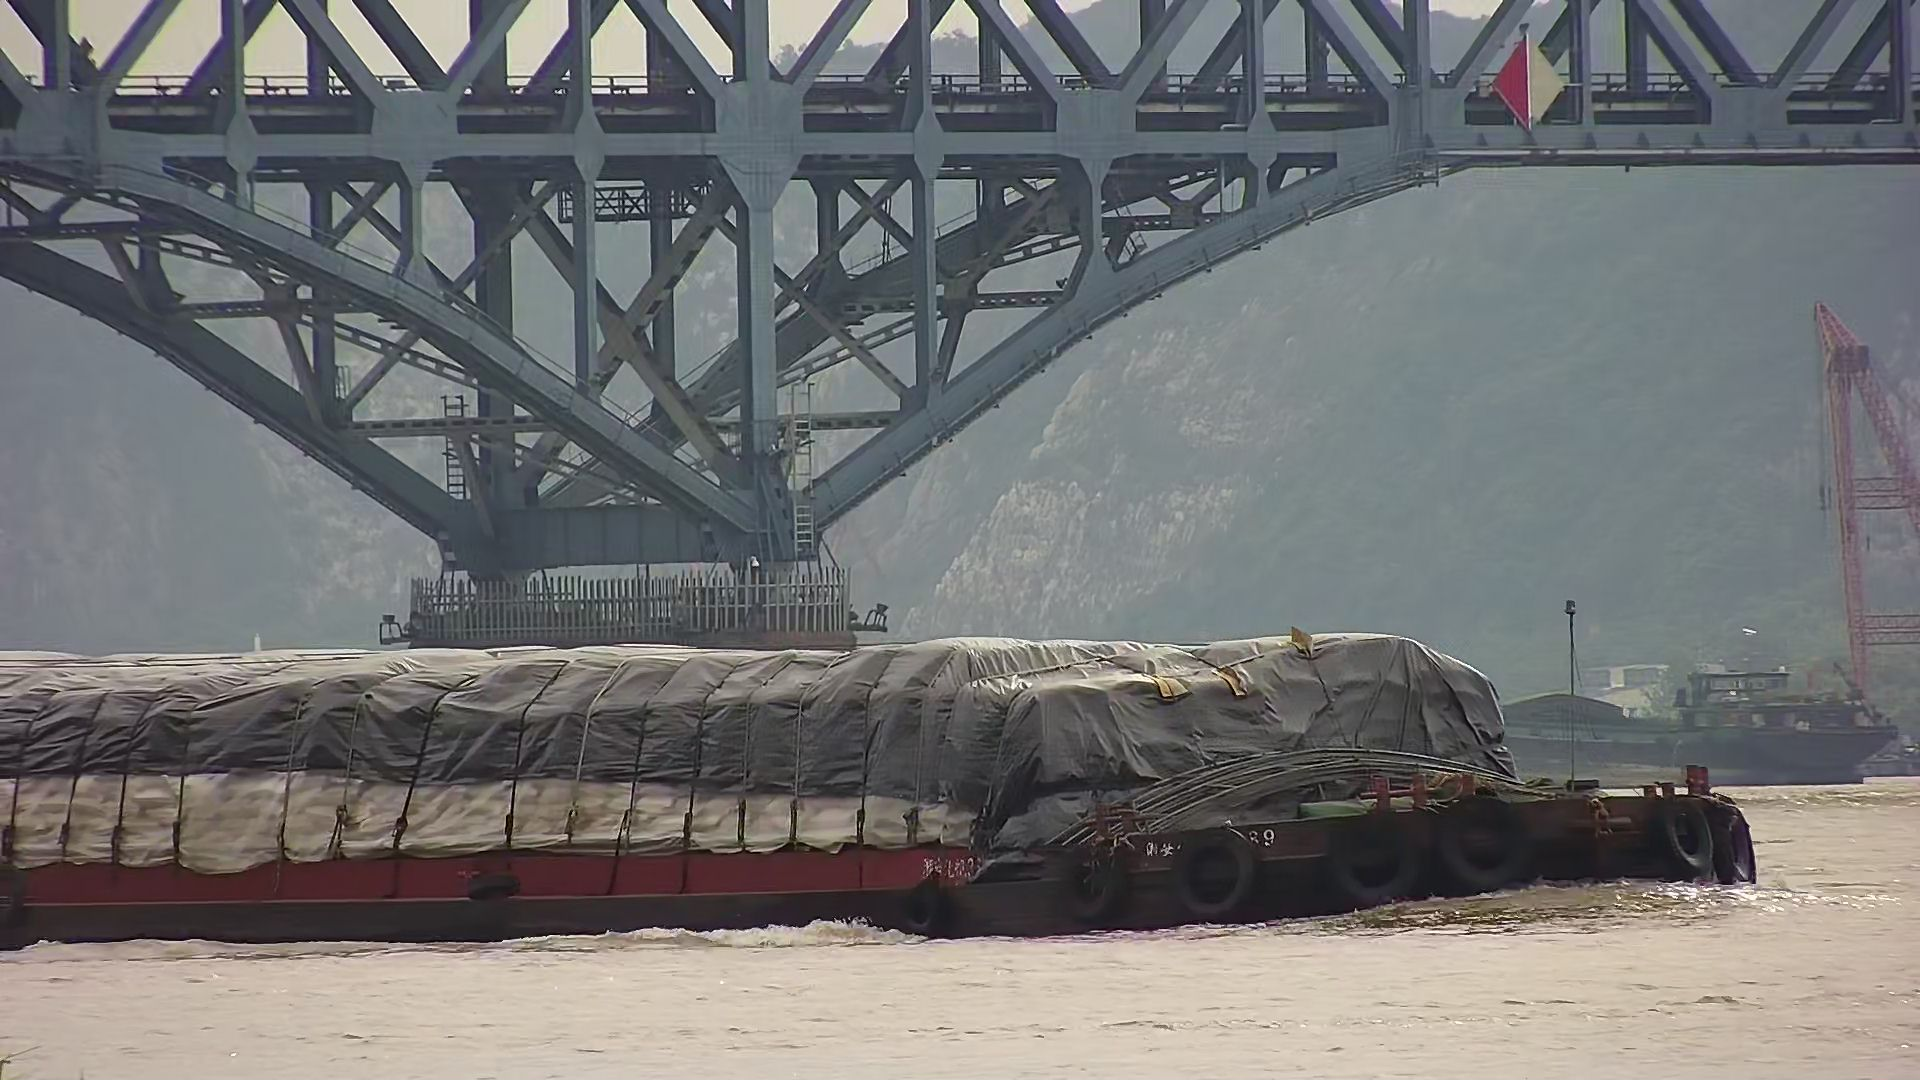bridge: (5, 3, 1920, 626)
ship: (1, 616, 1789, 939), (1410, 582, 1907, 802)
